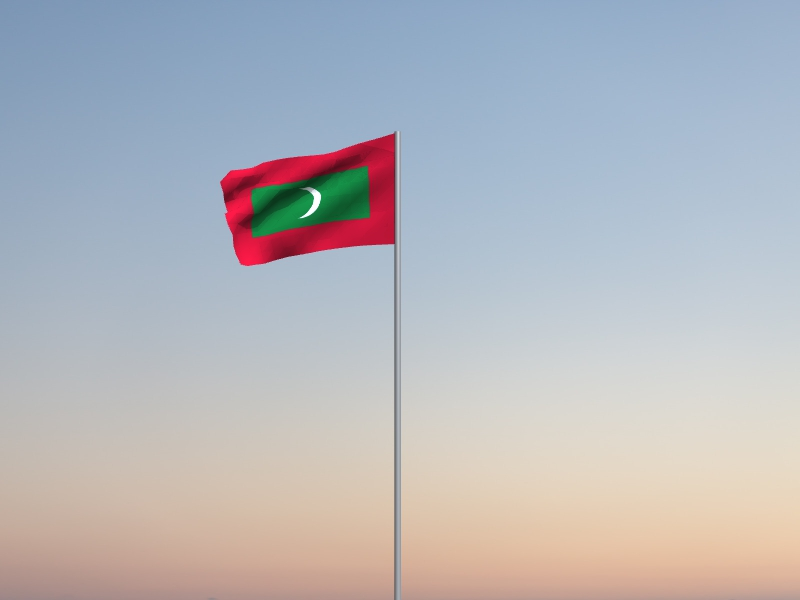mv: (220, 133, 395, 267)
